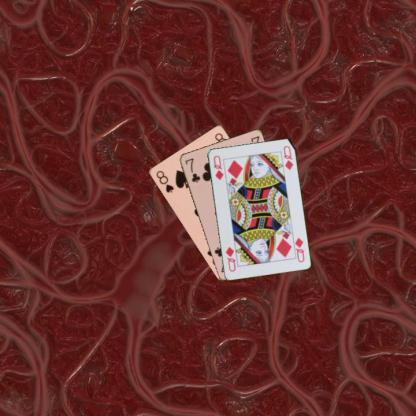7c: (183, 155, 202, 184)
8s: (153, 168, 175, 194)
Qd: (289, 234, 306, 263), (211, 152, 225, 181)
